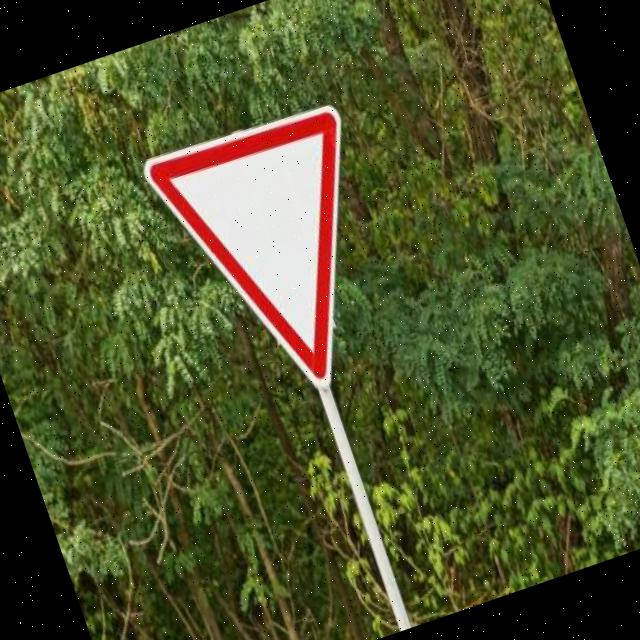give_way: (134, 80, 428, 430)
